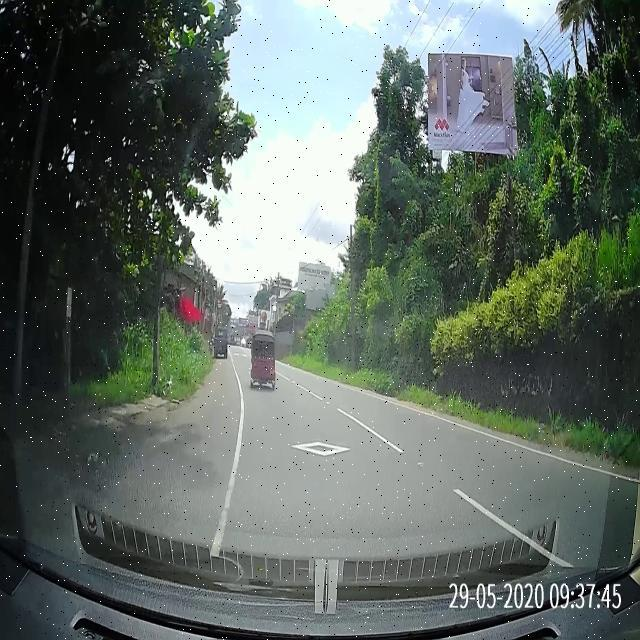diamond: (229, 417, 418, 472)
